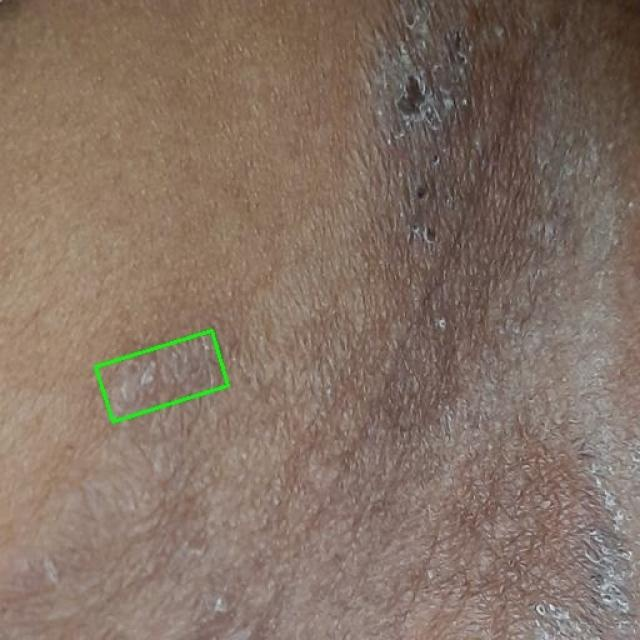Contact Dermatitis: (96, 331, 229, 422)
